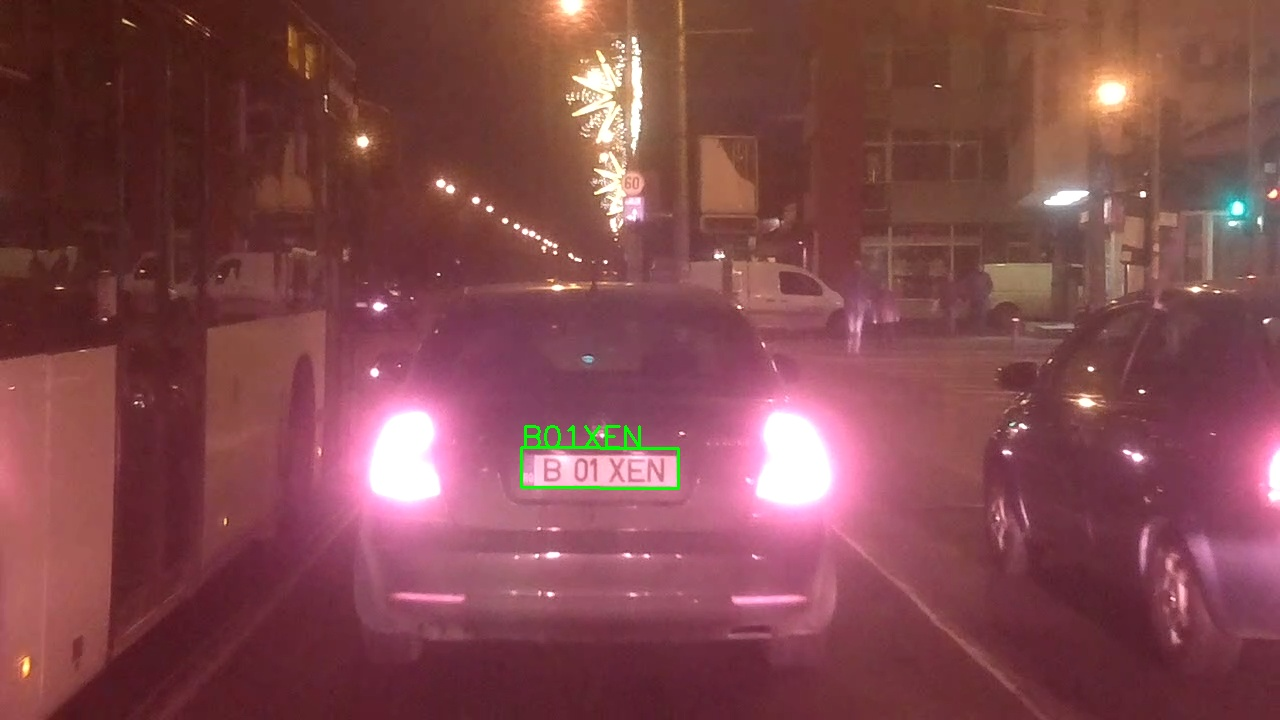license-plate: (520, 447, 680, 490)
